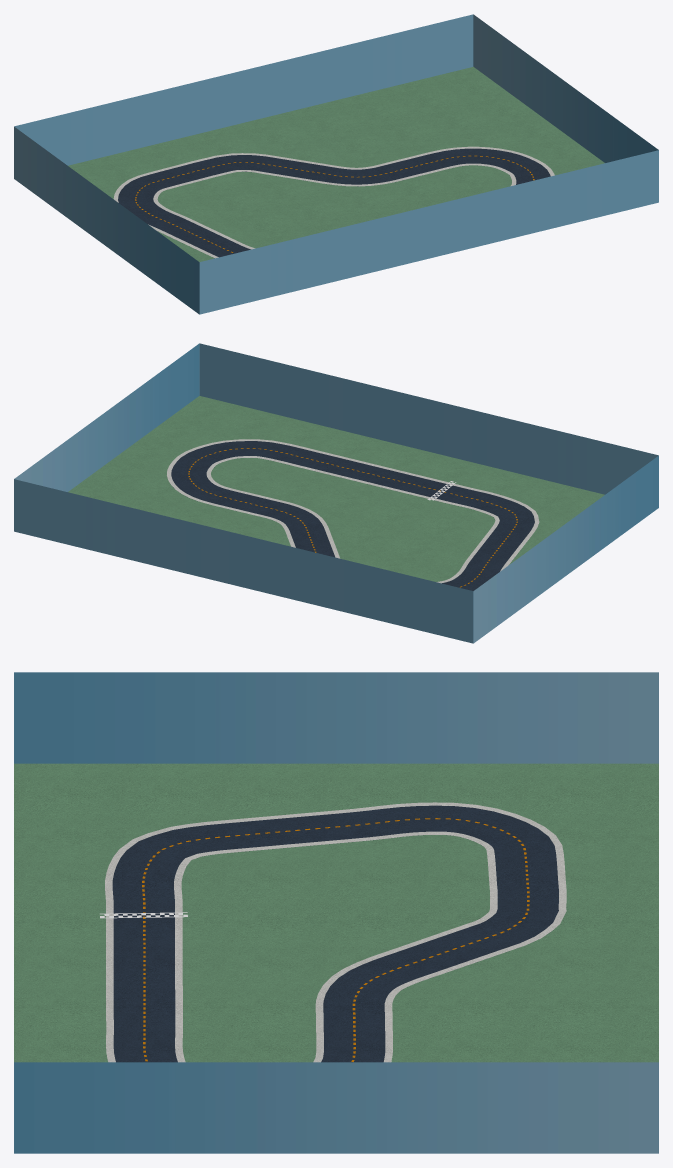
File: reinvent_base_default.dae
The picture shows the model from 3 angles, top to bottom: view 1: azimuth 30°, elevation 25°; view 2: azimuth 150°, elevation 25°; view 3: azimuth 270°, elevation 25°; orthographic projection. The views are drawn at different scales.
Parts seen in each view (by area): view 1: wall, field, road, ol, il; view 2: wall, field, road, ol, il, cl; view 3: field, wall, road, ol, il, cl.
Part boxes in pixels (x1=…): wall: x1=14, y1=14, x2=658, y2=314; field: x1=68, y1=67, x2=604, y2=261; road: x1=118, y1=148, x2=550, y2=257; ol: x1=113, y1=146, x2=554, y2=258; il: x1=153, y1=163, x2=516, y2=249; wall: x1=14, y1=343, x2=658, y2=643; field: x1=68, y1=396, x2=604, y2=581; road: x1=171, y1=441, x2=534, y2=590; ol: x1=167, y1=439, x2=539, y2=571; il: x1=206, y1=456, x2=499, y2=583; cl: x1=188, y1=448, x2=517, y2=587; field: x1=14, y1=763, x2=658, y2=1062; wall: x1=14, y1=672, x2=658, y2=1153; road: x1=112, y1=805, x2=558, y2=1062; ol: x1=105, y1=802, x2=566, y2=1062; il: x1=174, y1=831, x2=497, y2=1062; cl: x1=142, y1=818, x2=529, y2=1061.
Size of the model in its own units: 9.16 by 6.41 by 1.
6 materials, 6 textured.
